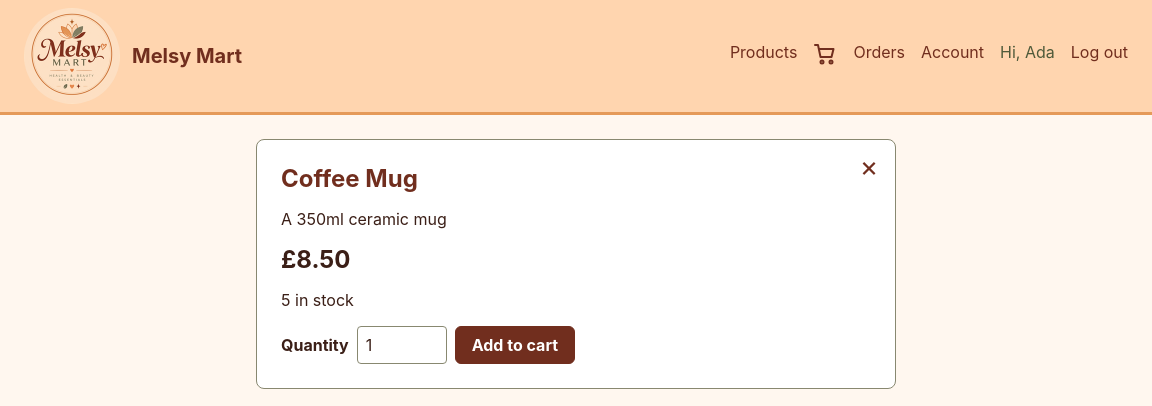
it: says "Adding…" and disables the button while sending
Check: the heading "Coffee Mug" is shown, box [281, 164, 418, 193]
Click the button "Add to cart": x=515, y=345 [455, 326, 575, 364]
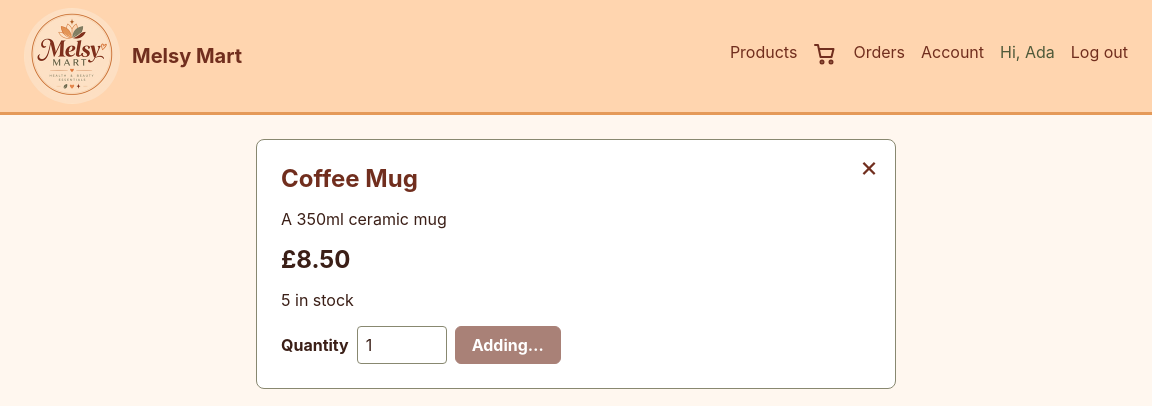
Check: the button "Adding…" is disabled, box [455, 326, 561, 364]
